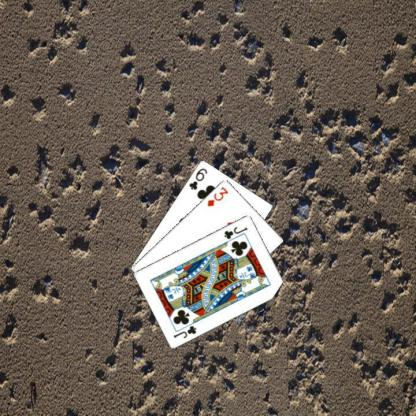3D: (204, 184, 230, 207)
6C: (186, 165, 209, 191)
JC: (221, 224, 249, 240), (171, 323, 198, 339)
